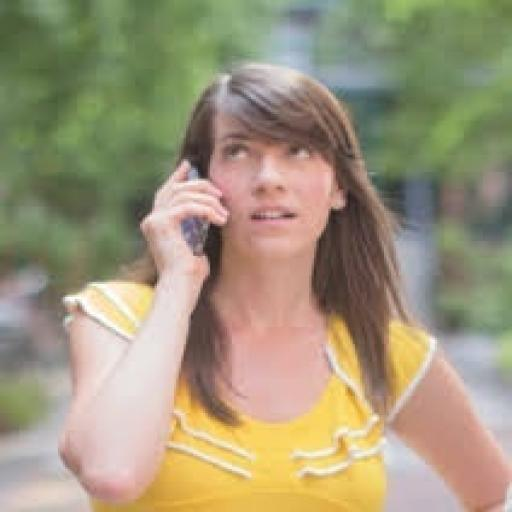calling: (56, 60, 510, 510)
